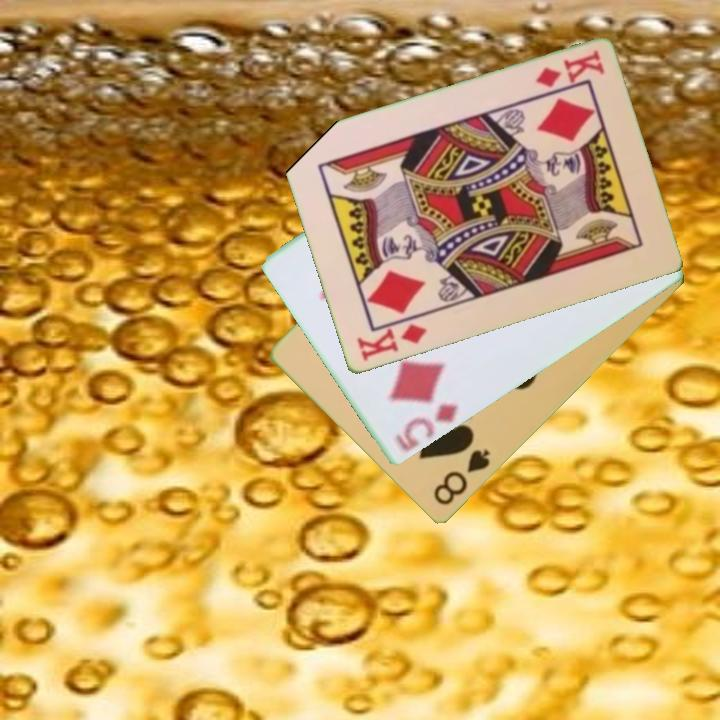5d: (392, 400, 462, 455)
8s: (430, 445, 493, 509)
Kd: (353, 312, 430, 365), (531, 47, 607, 91)
